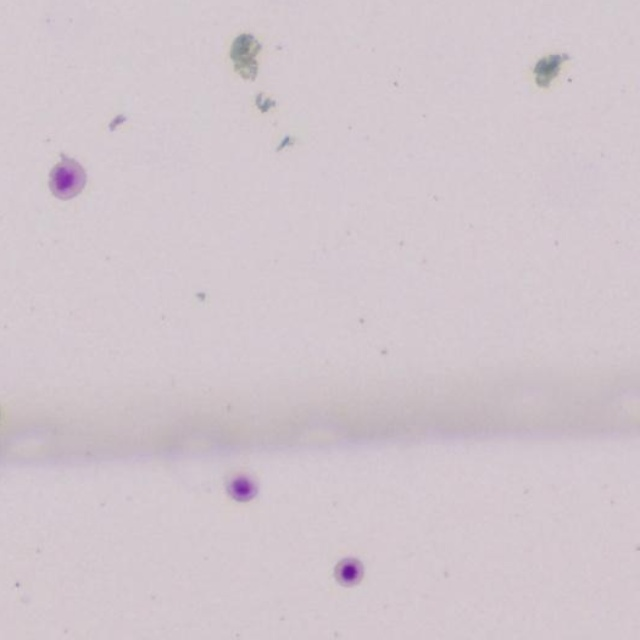intermediate: (49, 155, 85, 199), (334, 557, 362, 585), (227, 474, 256, 501)
